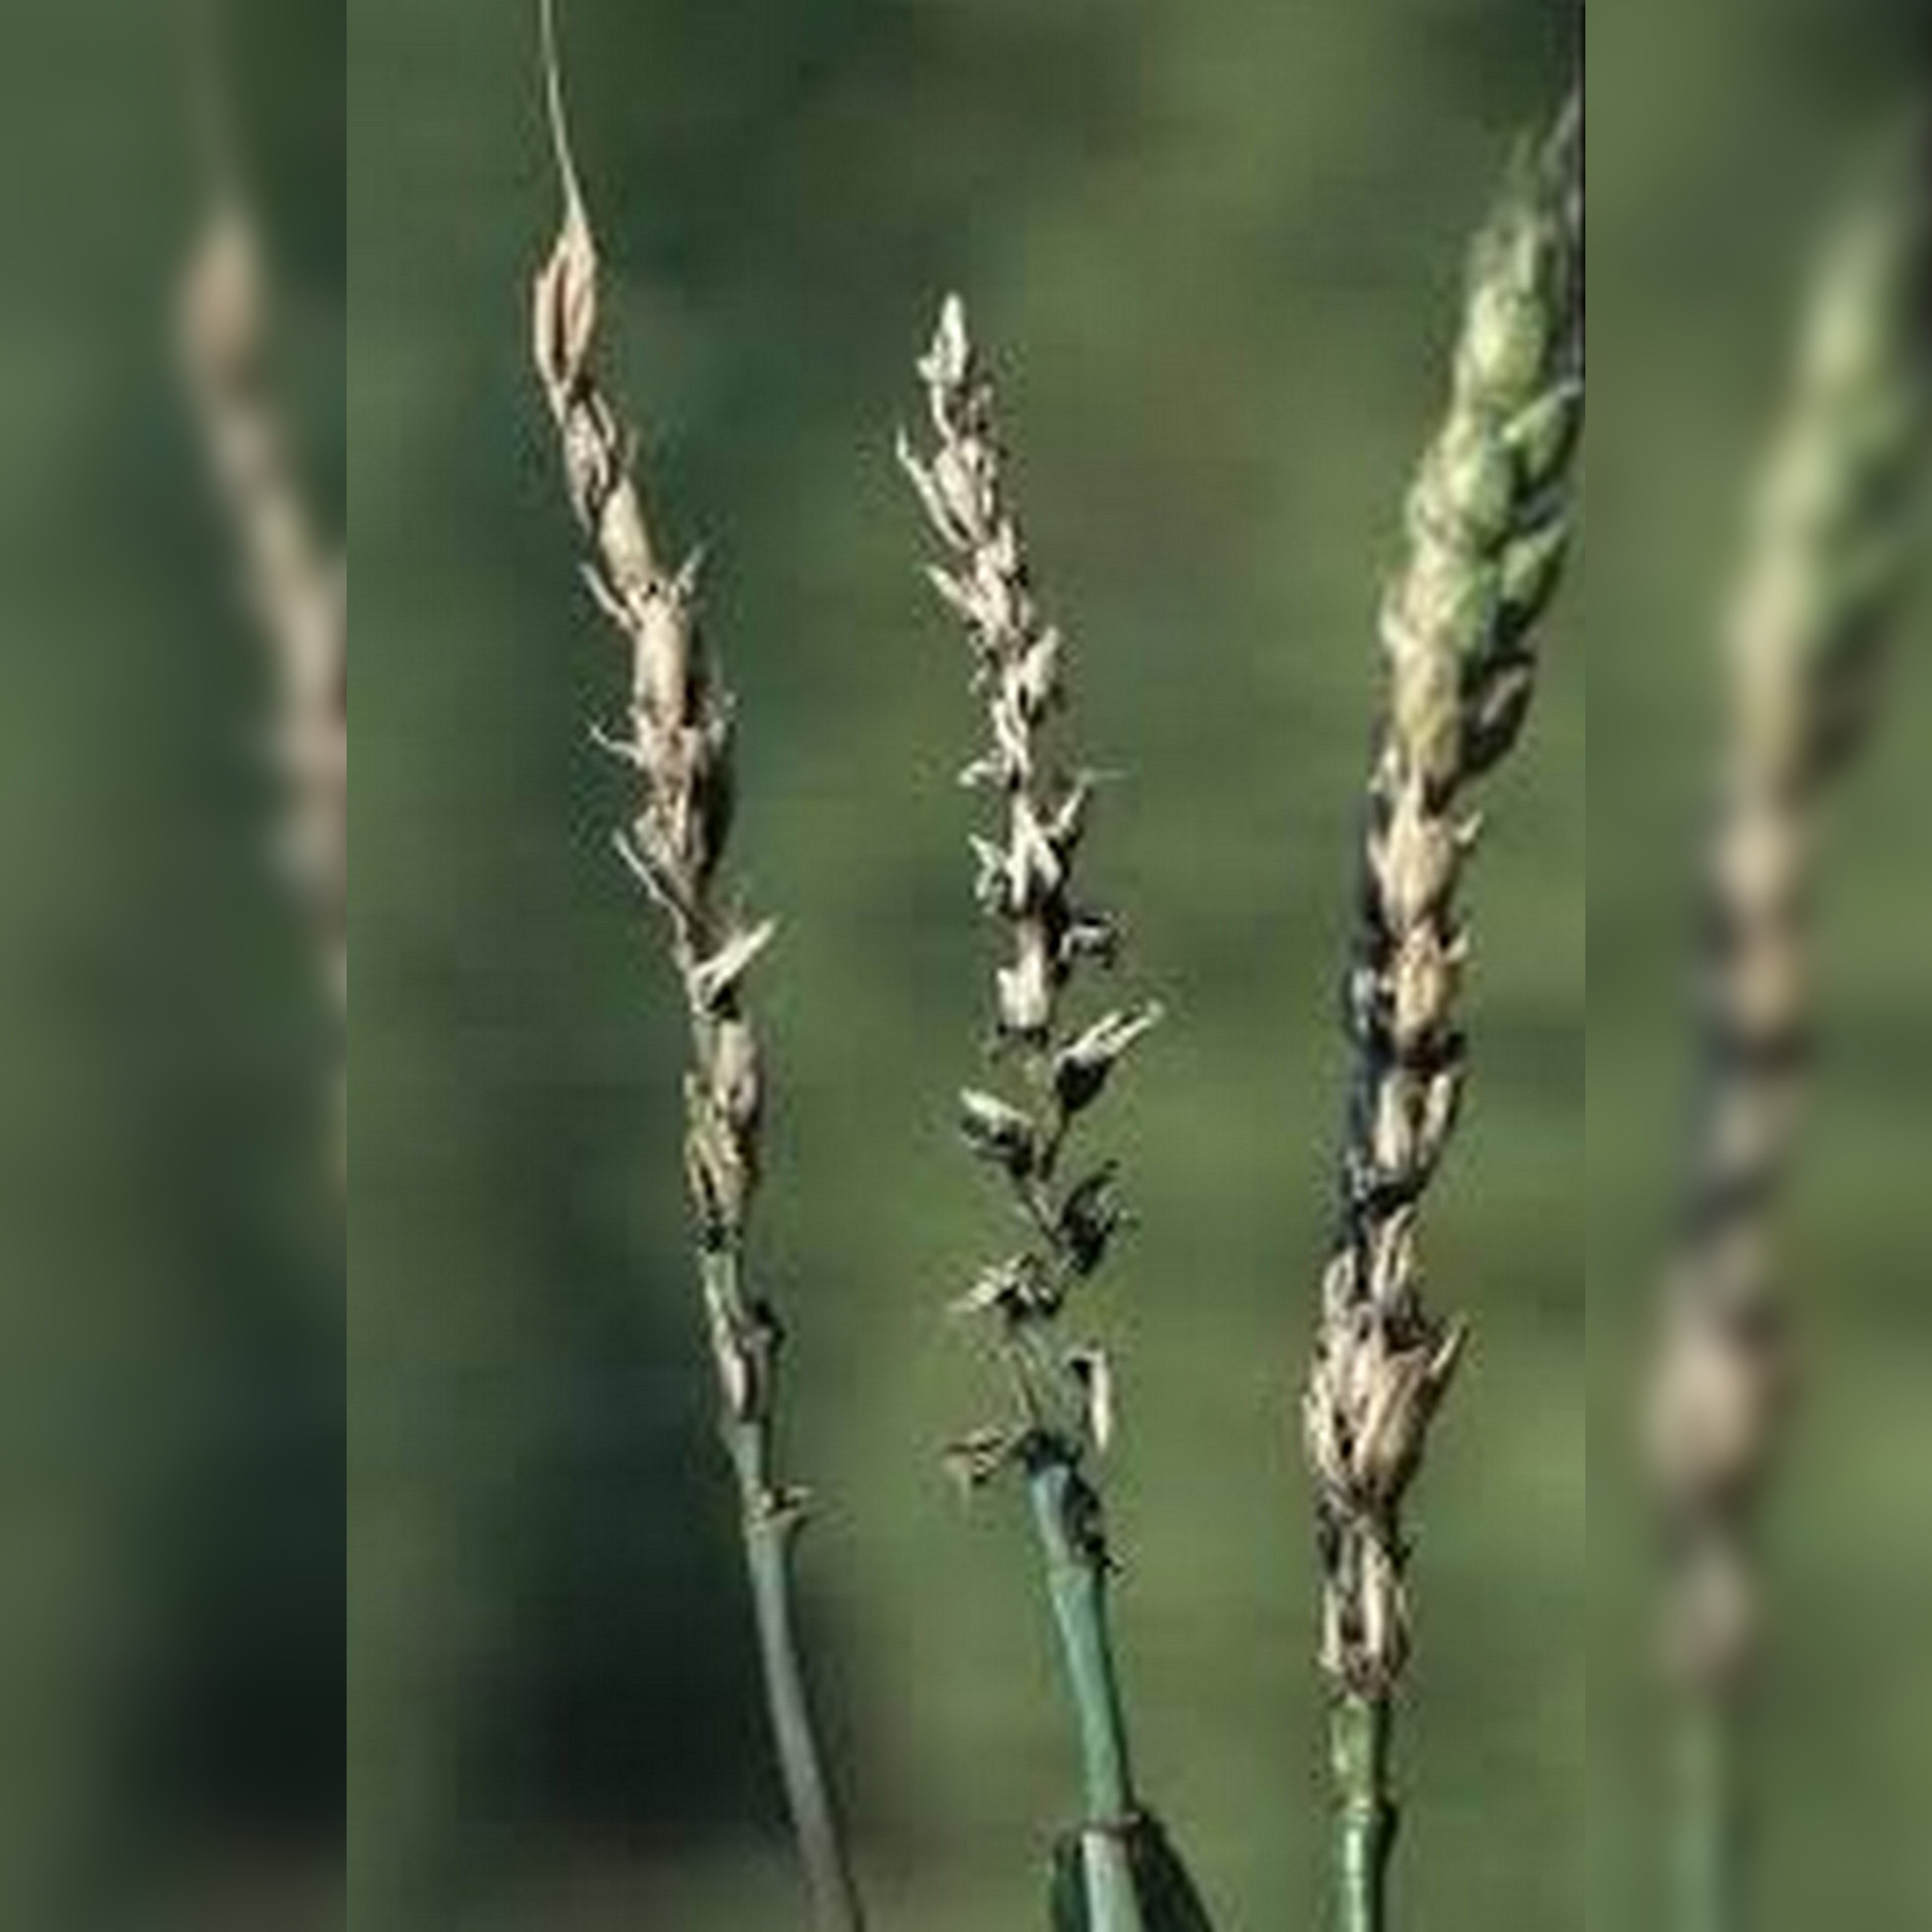Wheat Loose Smut: (488, 294, 1509, 1550)
